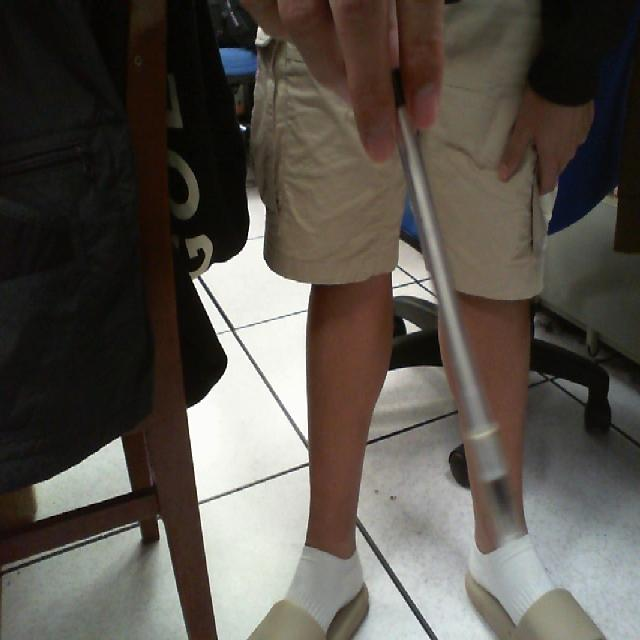Pen: (376, 42, 532, 568)
